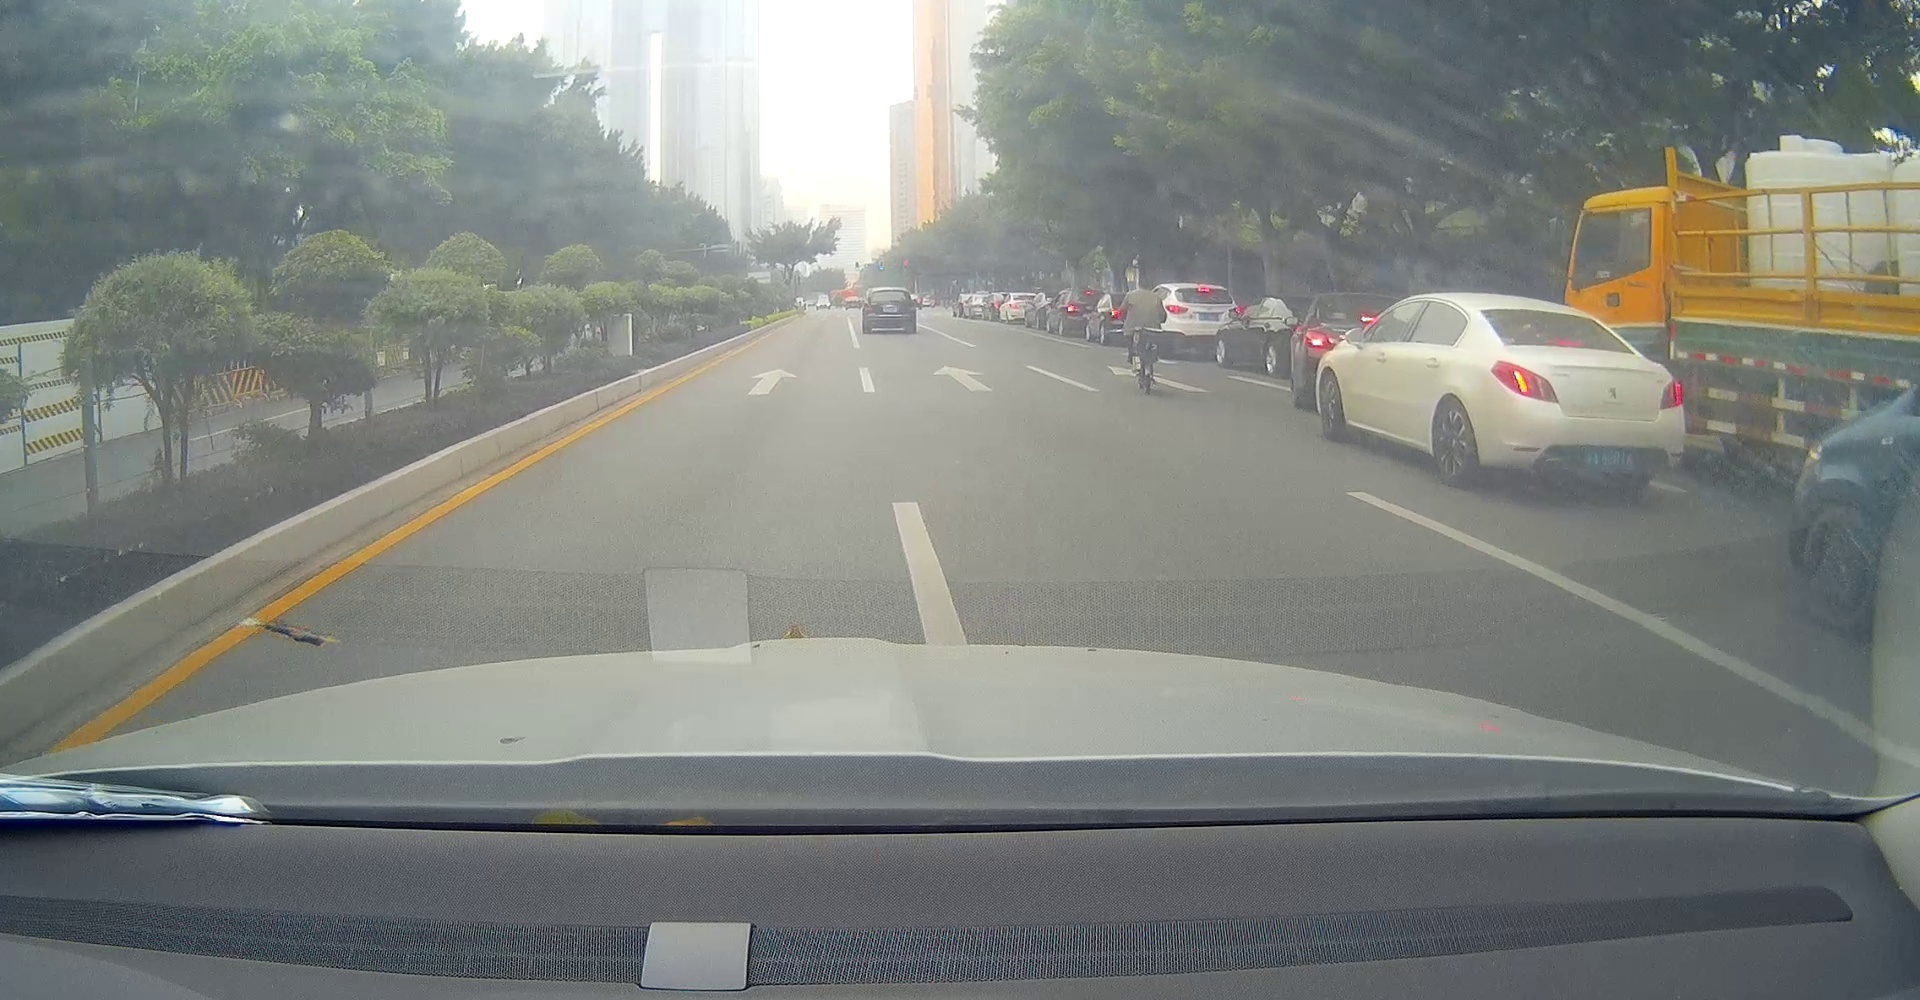L_light: (1491, 359, 1559, 405), (1164, 305, 1189, 315), (863, 302, 874, 313)
R_light: (1658, 377, 1683, 409), (1229, 306, 1241, 319), (903, 303, 916, 312)
T_light: (1550, 339, 1583, 346), (1197, 288, 1209, 292), (883, 289, 897, 292)
day-brake: (1470, 293, 1685, 501), (1164, 282, 1242, 359)
day-no: (862, 286, 916, 332)
